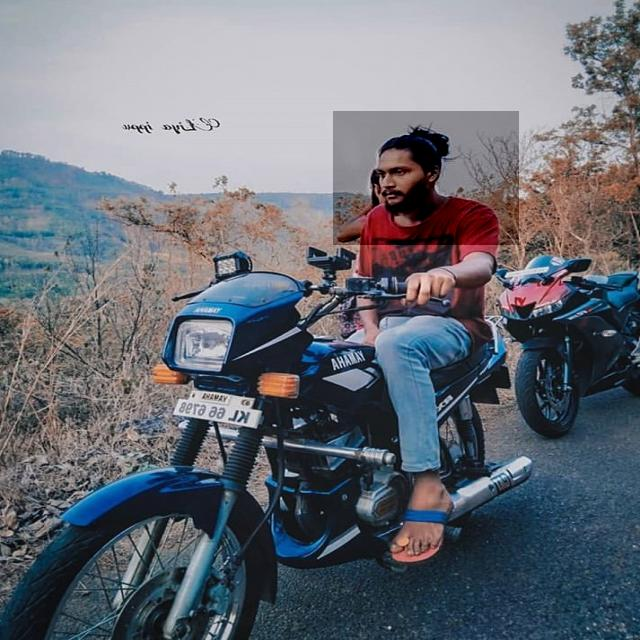No_Helmet: (333, 112, 519, 246)
